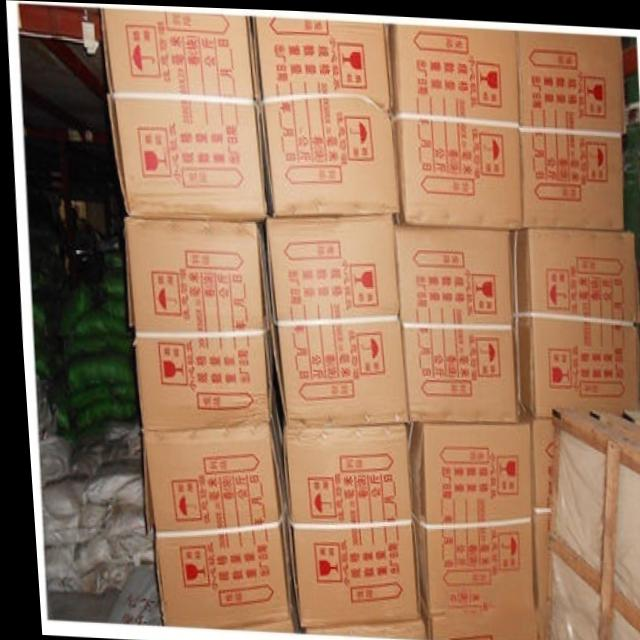box: (99, 7, 270, 222), (250, 12, 400, 223), (122, 219, 268, 430), (135, 421, 285, 626), (259, 211, 404, 423), (275, 419, 412, 626), (389, 22, 519, 224), (506, 225, 635, 416), (400, 418, 527, 611), (391, 222, 514, 420), (515, 26, 624, 224), (510, 398, 547, 603), (411, 593, 529, 640), (292, 618, 420, 635), (217, 602, 292, 631)
